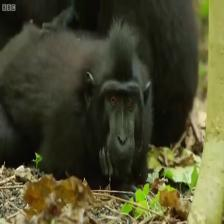monkey: (83, 31, 151, 185)
